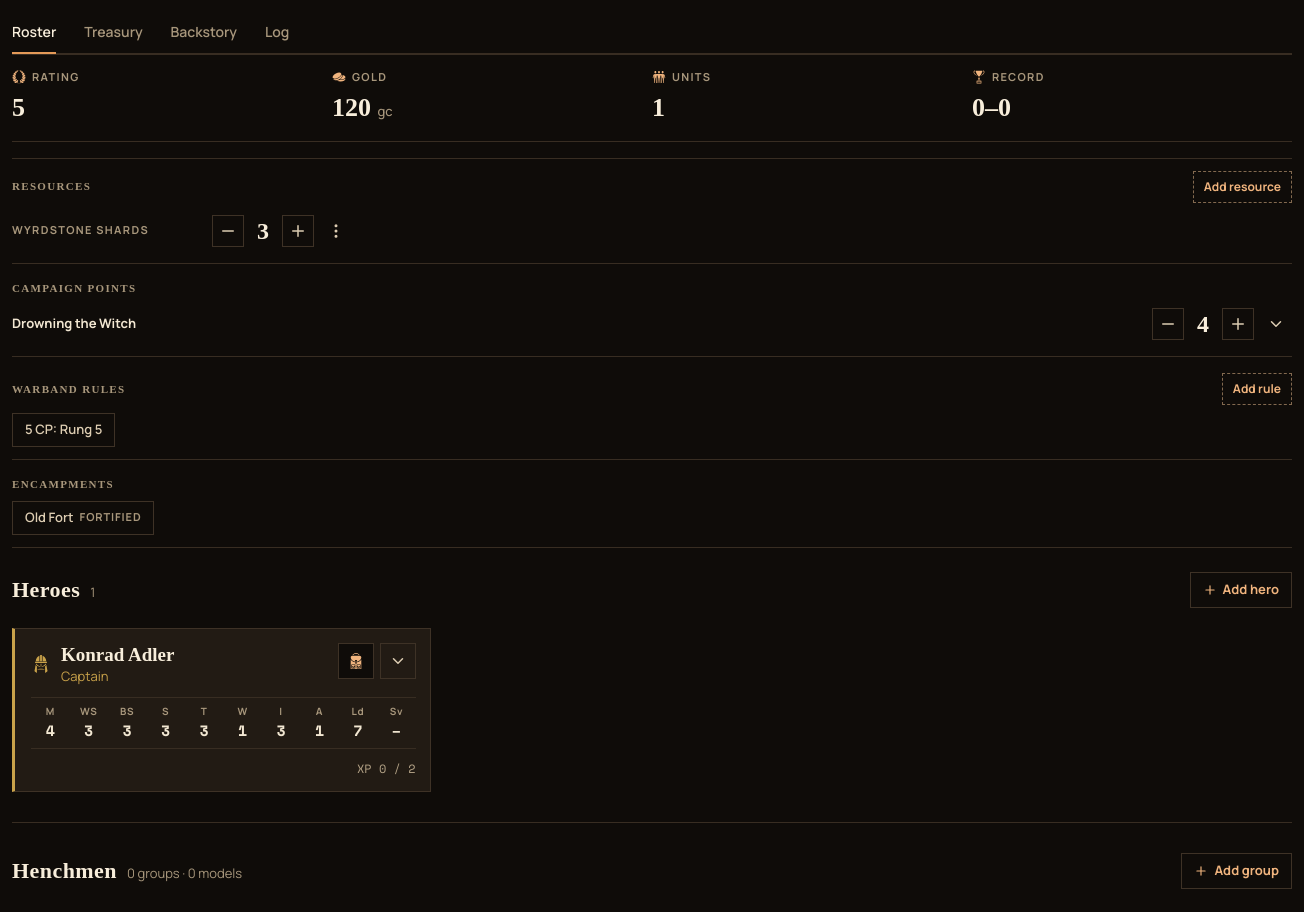
Scenario: the warband page's sections › holds the stats, resources, plot and rules at the top of the Roster tab alone
The width and height of the screenshot is (1304, 912).
Check: the element "Resources" is shown, box [12,158,1292,264]
Check: the element "Campaign points" is shown, box [12,280,1292,357]
Click the tab "Backstory".
click(204, 33)  # box [171,12,237,54]
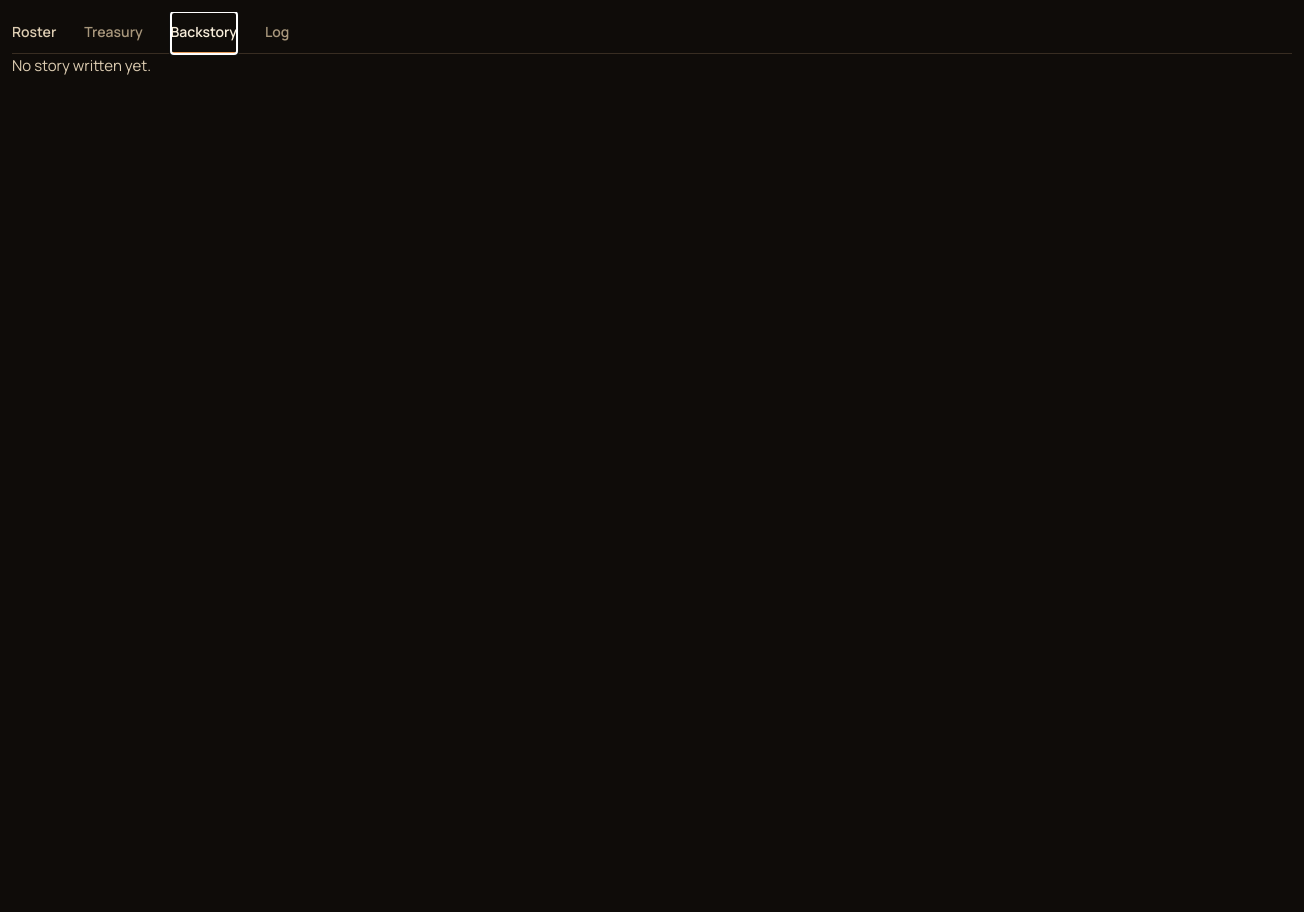
Check: the heading "Resources" is gone
Check: the heading "Campaign points" is gone
Check: the heading "Warband rules" is gone
